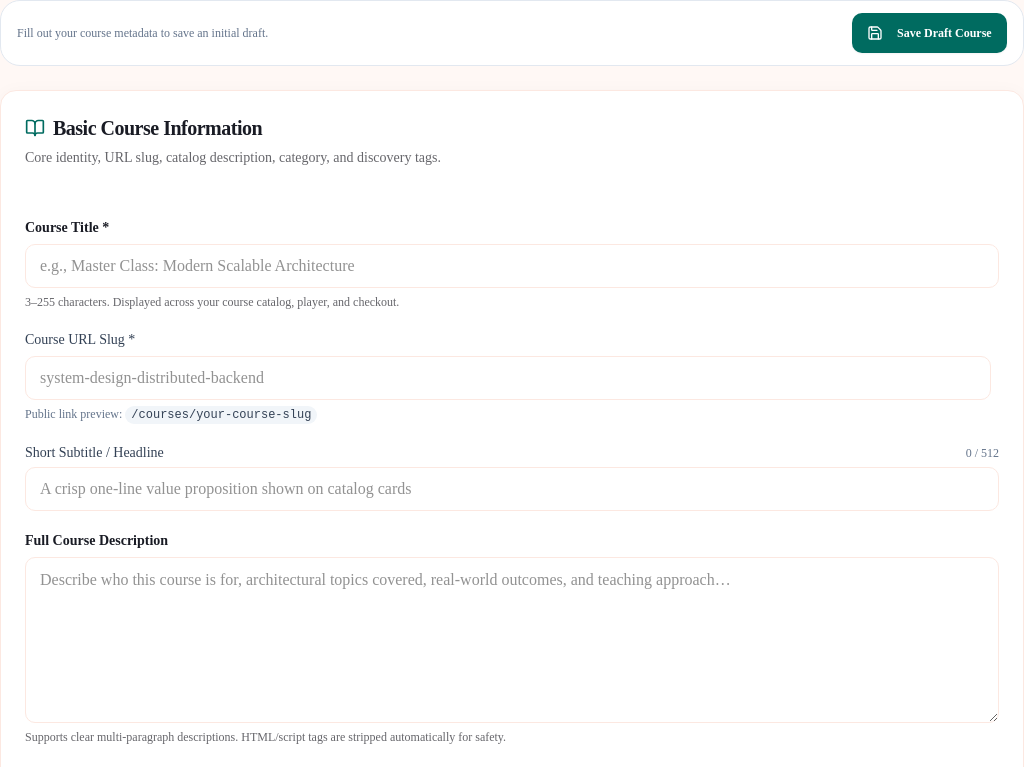
Test: Phase 1: CourseMetadataForm Component › auto-generates slug while typing title and stops once manually edited
In the field labelled "Course Title *": (512, 266) [25,244,999,288], type "Advanced Backend Systems"
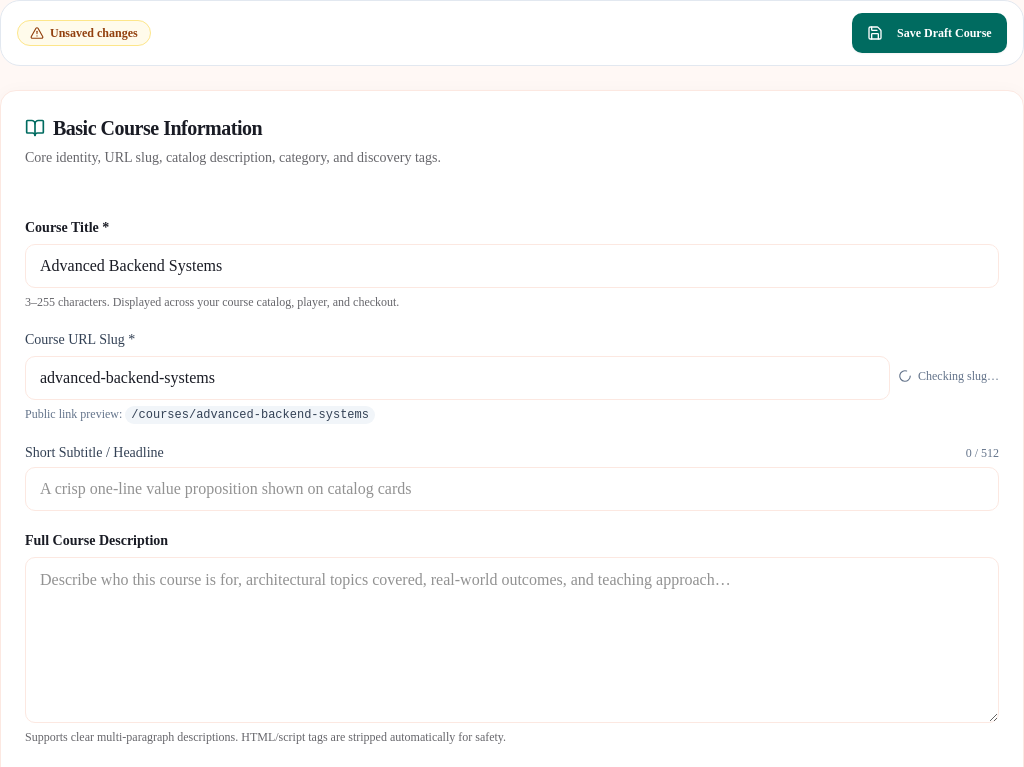
Check: the field labelled "Course URL Slug *" holds "advanced-backend-systems"
Replace the text in the field labelled "Course URL Slug *" with "custom-course-slug": (458, 378) [25,356,890,400]
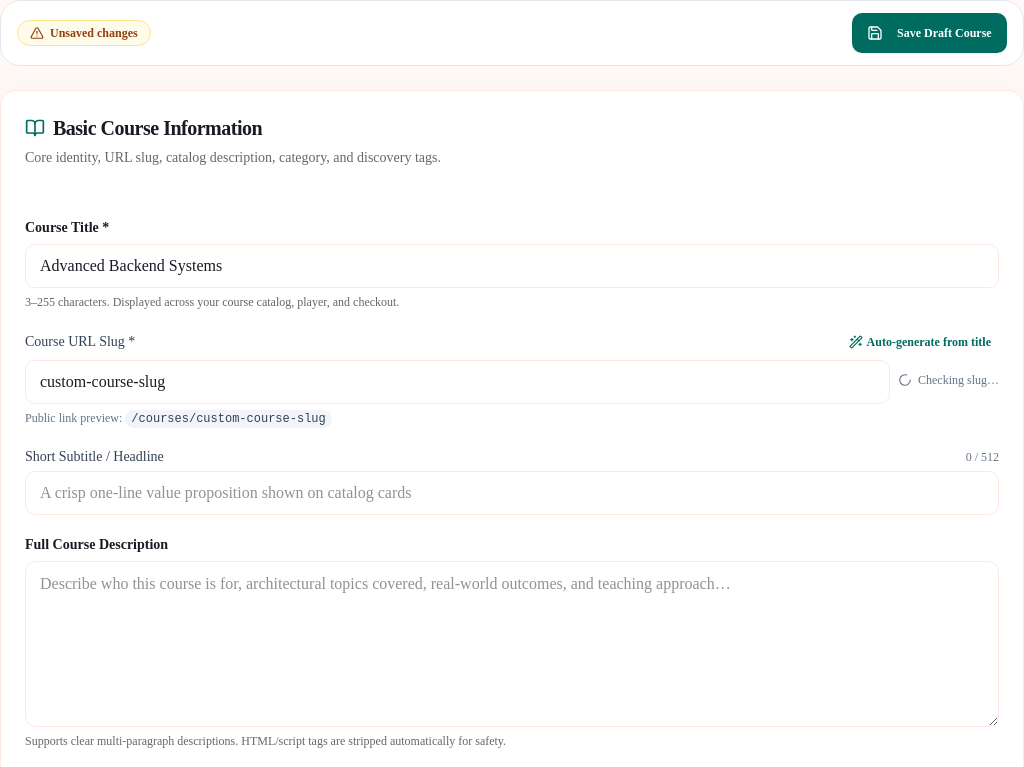
Replace the text in the field labelled "Course Title *" with "Renamed Course Title": (512, 266) [25,244,999,288]
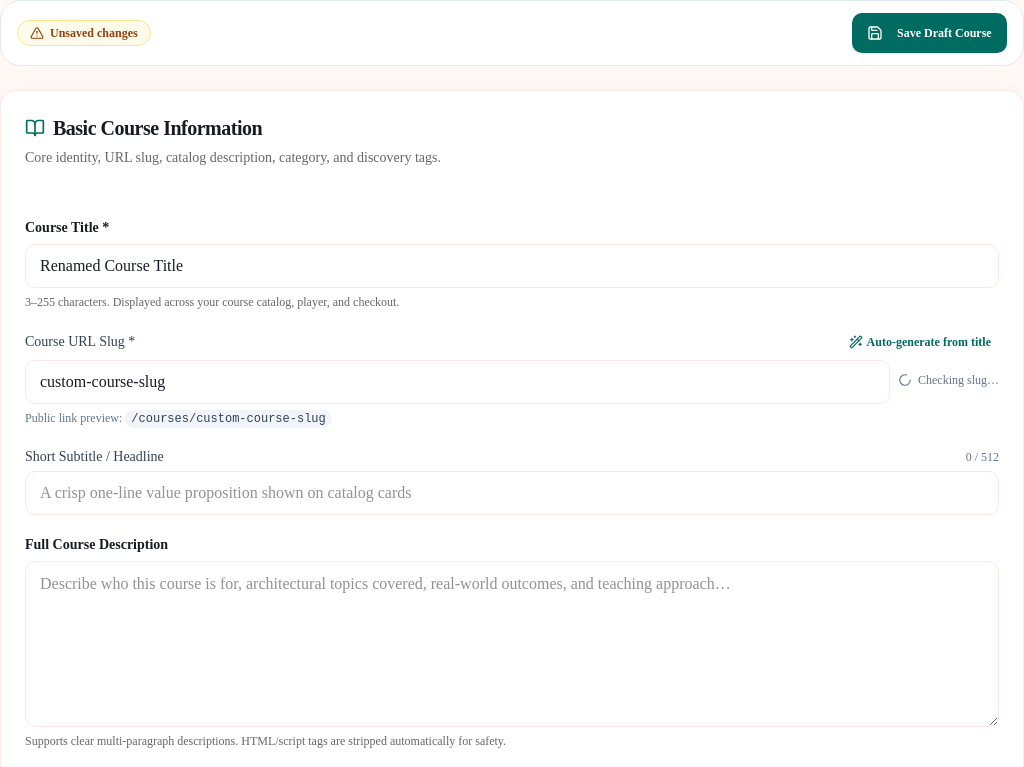
# Reset button restores auto-generation
Click the button "Auto-generate from title": click(920, 342) [841,330,999,354]
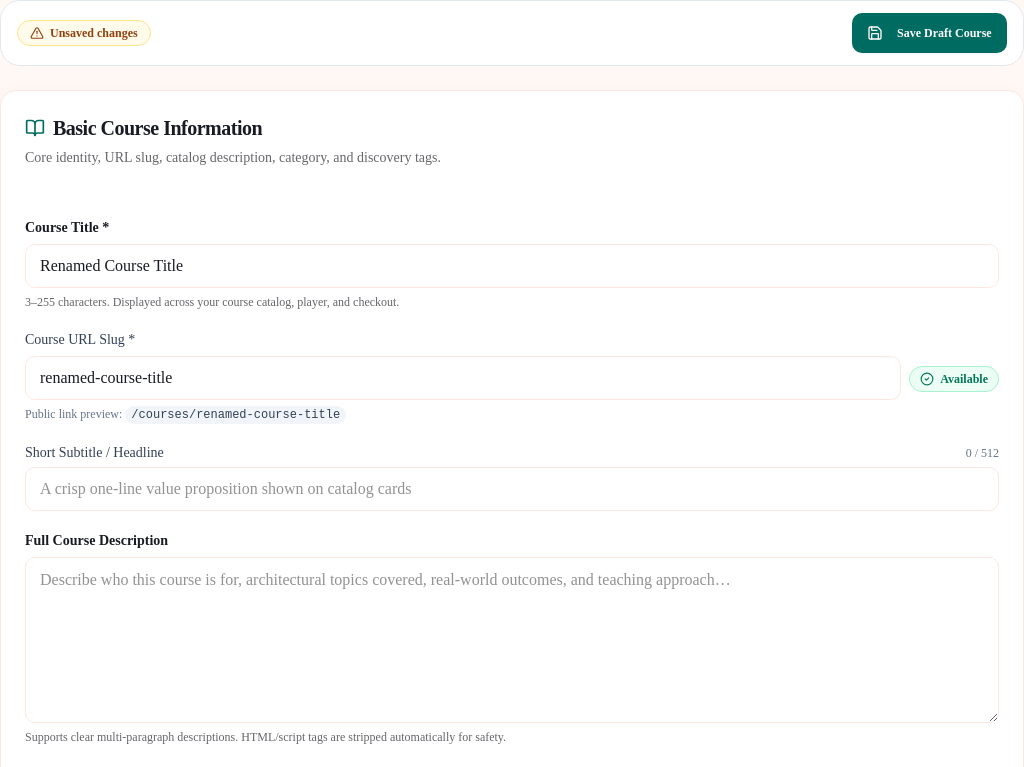
Check: the field labelled "Course URL Slug *" holds "renamed-course-title", box [25,356,901,400]
